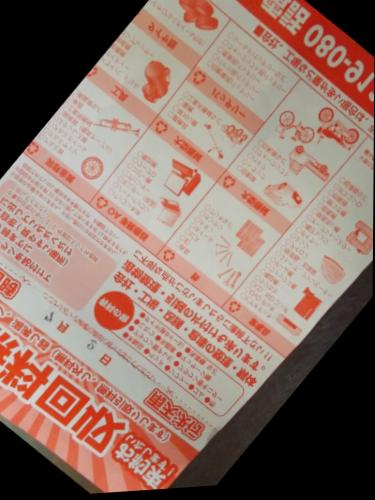paper: (0, 0, 374, 497)
